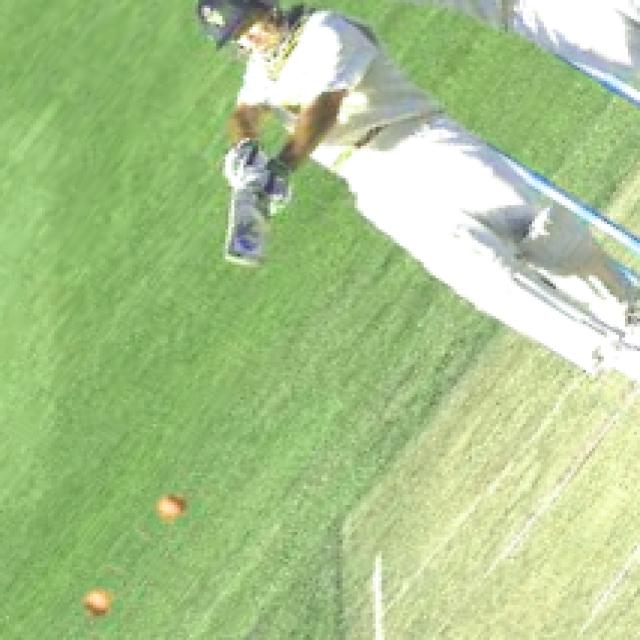toe: (212, 248, 267, 274)
